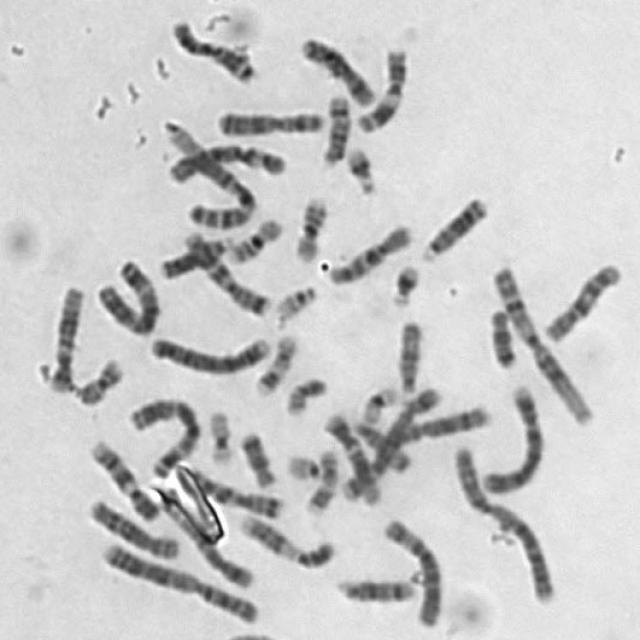A1: (483, 255, 597, 428), (157, 112, 260, 230)
A2: (445, 436, 558, 606), (93, 532, 261, 626)
A3: (119, 387, 204, 479), (86, 250, 162, 337)
B4: (475, 375, 546, 496), (142, 326, 275, 376)
B5: (335, 378, 445, 503), (152, 482, 257, 590)
C10: (535, 252, 624, 345), (320, 214, 416, 286)
C11: (163, 9, 259, 85), (348, 37, 410, 134)
C12: (317, 403, 384, 507), (40, 276, 86, 396)
C6: (376, 508, 446, 629), (160, 134, 290, 185)
C7: (176, 222, 274, 317), (175, 465, 289, 522)
C8: (81, 489, 183, 562), (395, 396, 493, 444)
C9: (82, 431, 161, 523), (231, 504, 339, 569)
D13: (414, 186, 491, 262), (153, 227, 238, 281)
D14: (328, 568, 420, 604), (313, 85, 352, 167)
D15: (344, 411, 414, 475), (390, 312, 426, 398)
E16: (220, 209, 286, 265), (287, 188, 330, 264)
E17: (247, 326, 300, 396), (298, 440, 341, 516)
E18: (232, 422, 278, 489), (481, 299, 519, 370)
F19: (200, 400, 236, 468), (354, 378, 402, 424)
F20: (69, 348, 125, 407), (276, 367, 329, 417)
G21: (338, 137, 380, 195), (383, 253, 423, 310)
G22: (268, 275, 320, 321), (278, 444, 324, 482)
X: (293, 27, 377, 108), (210, 100, 328, 138)
